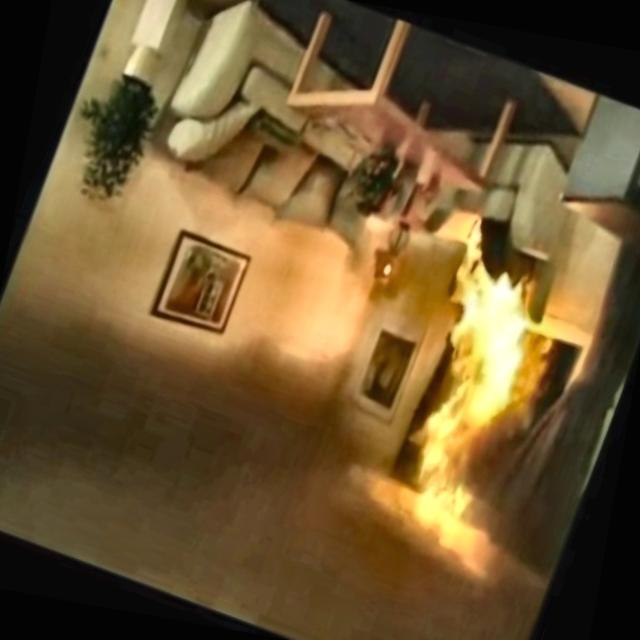fire: (351, 235, 584, 558)
smoke: (0, 296, 401, 640)
